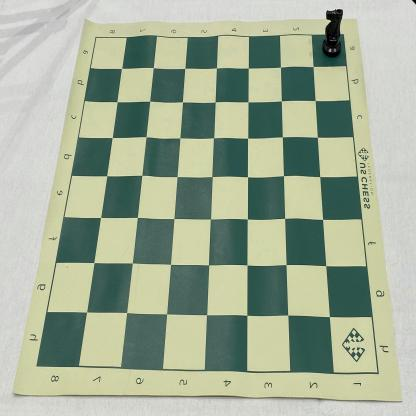black-knight: (320, 9, 344, 58)
